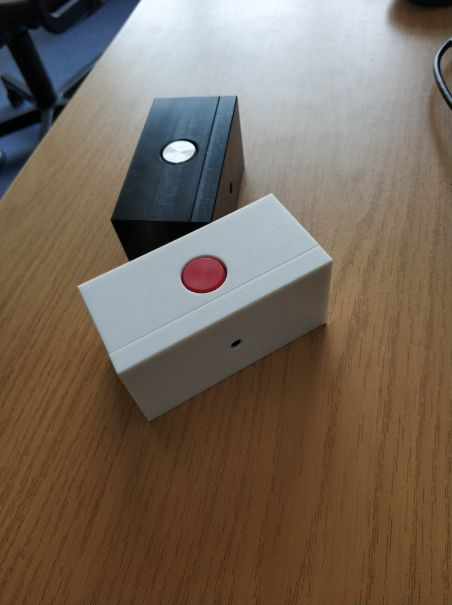black+black+silver: (106, 91, 246, 261)
white+white+red: (72, 191, 336, 426)
